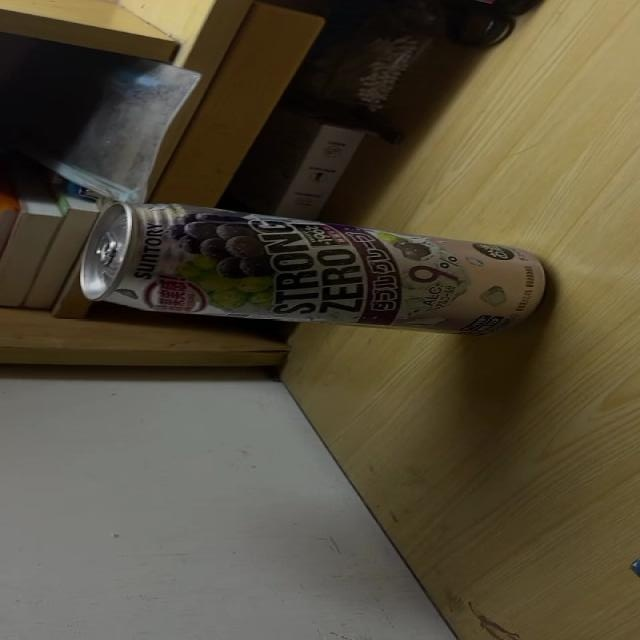Liquor: (82, 203, 549, 338)
